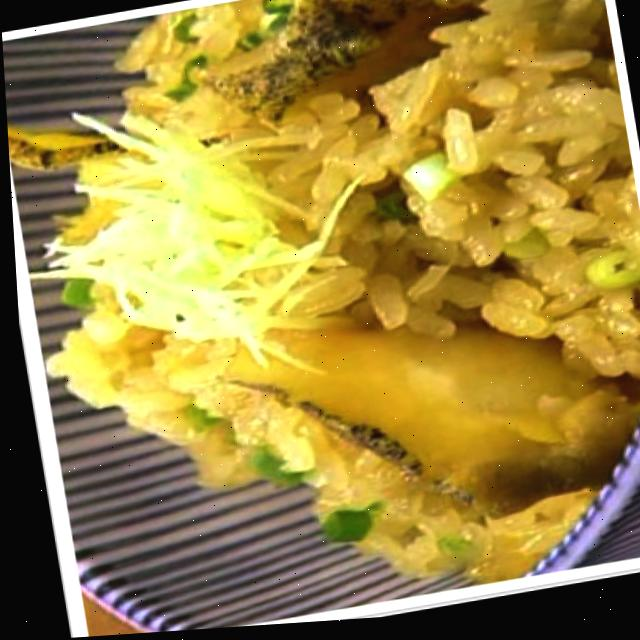米饭主食: (21, 0, 640, 615)
